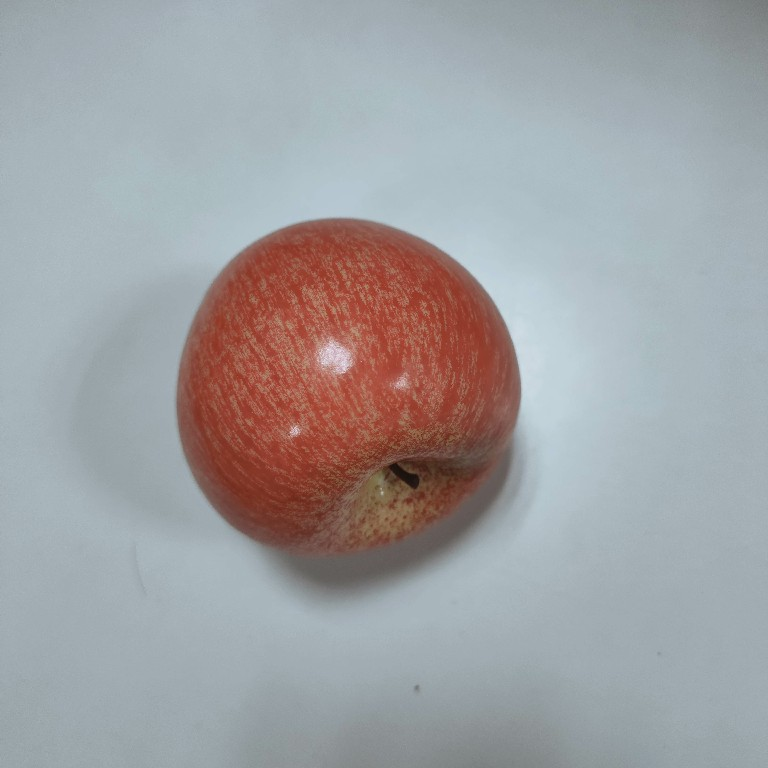fruit_apple: (167, 211, 527, 565)
